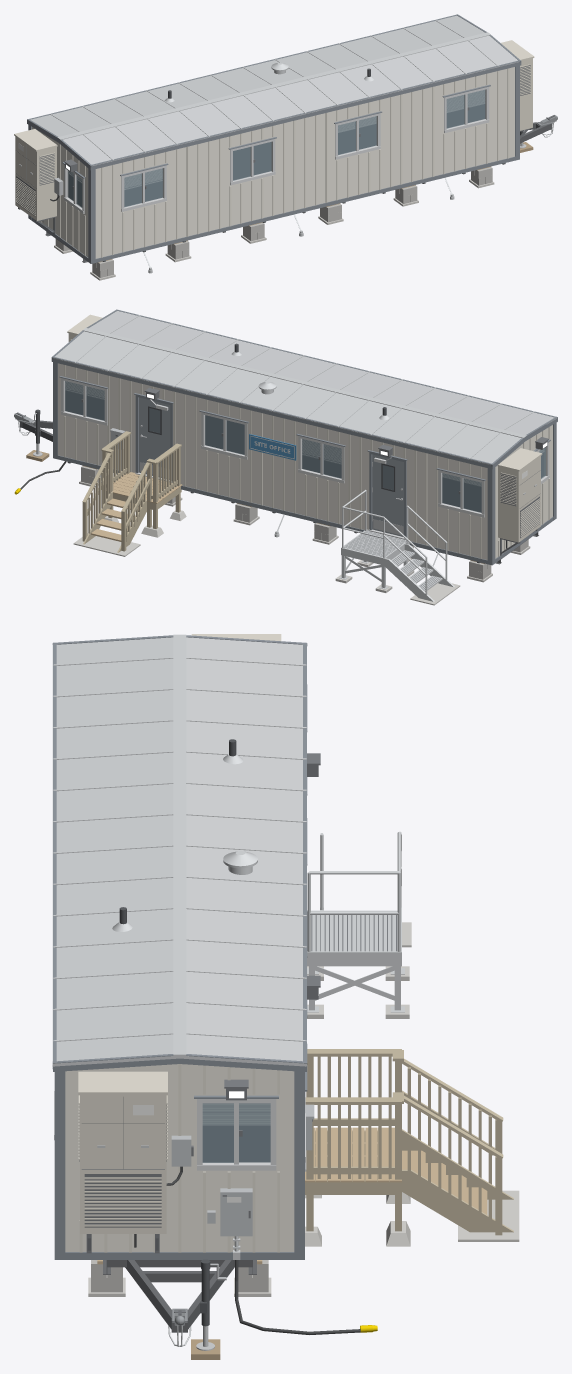
Rendered from site-office-10x40-cad.glb.
The picture shows the model from 3 angles, top to bottom: view 1: azimuth 30°, elevation 25°; view 2: azimuth 150°, elevation 25°; view 3: azimuth 270°, elevation 25°; orthographic projection. The views are drawn at different scales.
Parts seen in each view (by area): view 1: body, roof, trim, siding_ribs, glass, hvac_units, window_backs, window_frames, pier_blocks, blinds, deck_blocks, main_rails; view 2: roof, body, trim, window_backs, landing_frame, siding_ribs, glass, hvac_units, window_frames, doors, deck_blocks, landing_deck (+6 smaller); view 3: roof, body, landing_frame, hvac_units, trim, window_backs, landing_deck, deck_blocks, glass, main_rails, electrical_boxes, window_frames (+5 smaller).
Boxes of the visible parts, x1=… form: body: x1=32, y1=67, x2=514, y2=258; roof: x1=30, y1=15, x2=554, y2=273; trim: x1=27, y1=14, x2=521, y2=263; siding_ribs: x1=41, y1=68, x2=509, y2=257; glass: x1=67, y1=89, x2=485, y2=207; hvac_units: x1=14, y1=40, x2=534, y2=220; window_backs: x1=16, y1=65, x2=555, y2=233; window_frames: x1=63, y1=86, x2=489, y2=213; pier_blocks: x1=55, y1=167, x2=492, y2=277; blinds: x1=68, y1=90, x2=484, y2=189; deck_blocks: x1=54, y1=179, x2=494, y2=280; main_rails: x1=45, y1=122, x2=551, y2=262; roof: x1=17, y1=311, x2=556, y2=601; body: x1=58, y1=363, x2=552, y2=559; trim: x1=51, y1=309, x2=557, y2=565; window_backs: x1=16, y1=387, x2=548, y2=590; landing_frame: x1=82, y1=431, x2=181, y2=552; siding_ribs: x1=64, y1=365, x2=549, y2=558; glass: x1=65, y1=381, x2=545, y2=512; hvac_units: x1=67, y1=314, x2=542, y2=542; window_frames: x1=61, y1=378, x2=549, y2=539; doors: x1=139, y1=397, x2=403, y2=536; deck_blocks: x1=73, y1=481, x2=530, y2=605; landing_deck: x1=82, y1=465, x2=484, y2=563; roof: x1=52, y1=634, x2=404, y2=1346; body: x1=65, y1=1064, x2=294, y2=1251; landing_frame: x1=305, y1=1049, x2=513, y2=1235; hvac_units: x1=78, y1=634, x2=281, y2=1233; trim: x1=52, y1=635, x2=307, y2=1259; window_backs: x1=79, y1=753, x2=396, y2=1315; landing_deck: x1=97, y1=1127, x2=487, y2=1264; deck_blocks: x1=88, y1=922, x2=519, y2=1296; glass: x1=202, y1=1103, x2=270, y2=1162; main_rails: x1=103, y1=1260, x2=256, y2=1332; electrical_boxes: x1=171, y1=1104, x2=314, y2=1236; window_frames: x1=54, y1=1091, x2=306, y2=1171.
Bounding box in the file's own units: 14.78 × 3.75 × 5.77.
